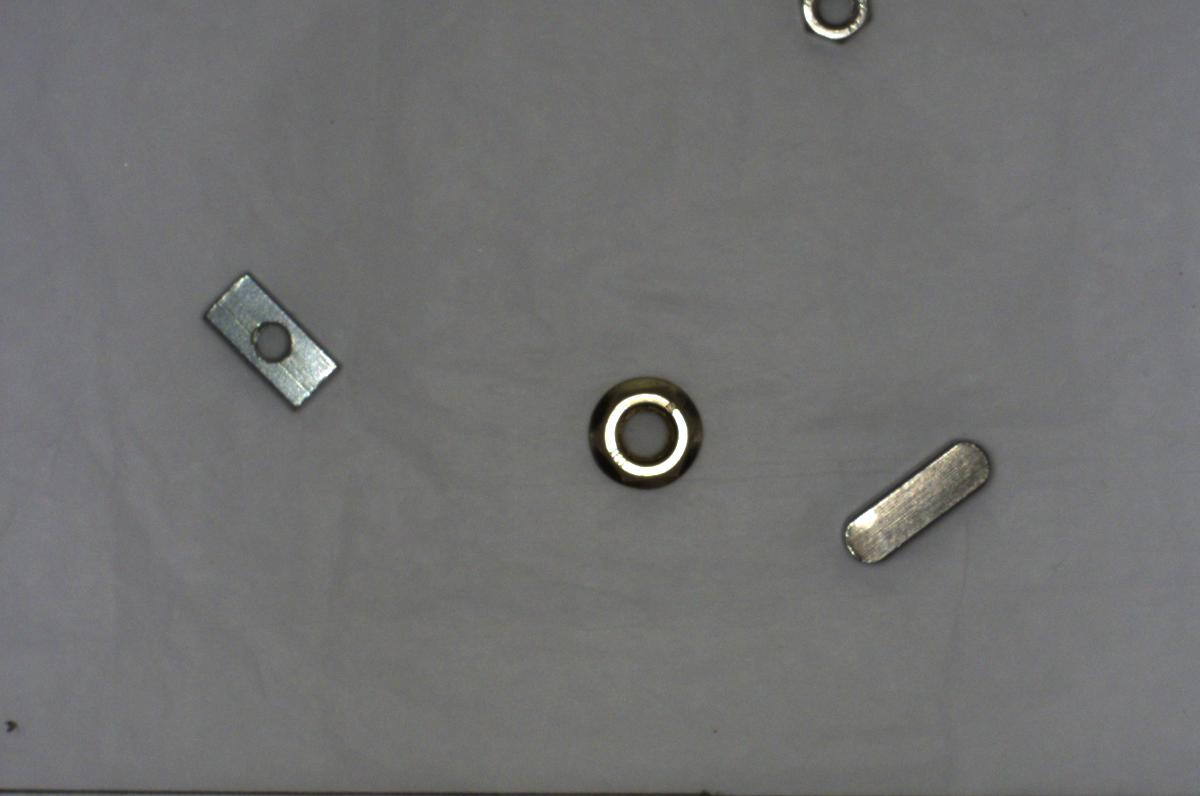Flange nut: (572, 370, 711, 494)
Hexagon nut: (792, 2, 879, 48)
Keybar: (838, 432, 1002, 568)
Rectangular nut: (192, 272, 342, 419)
